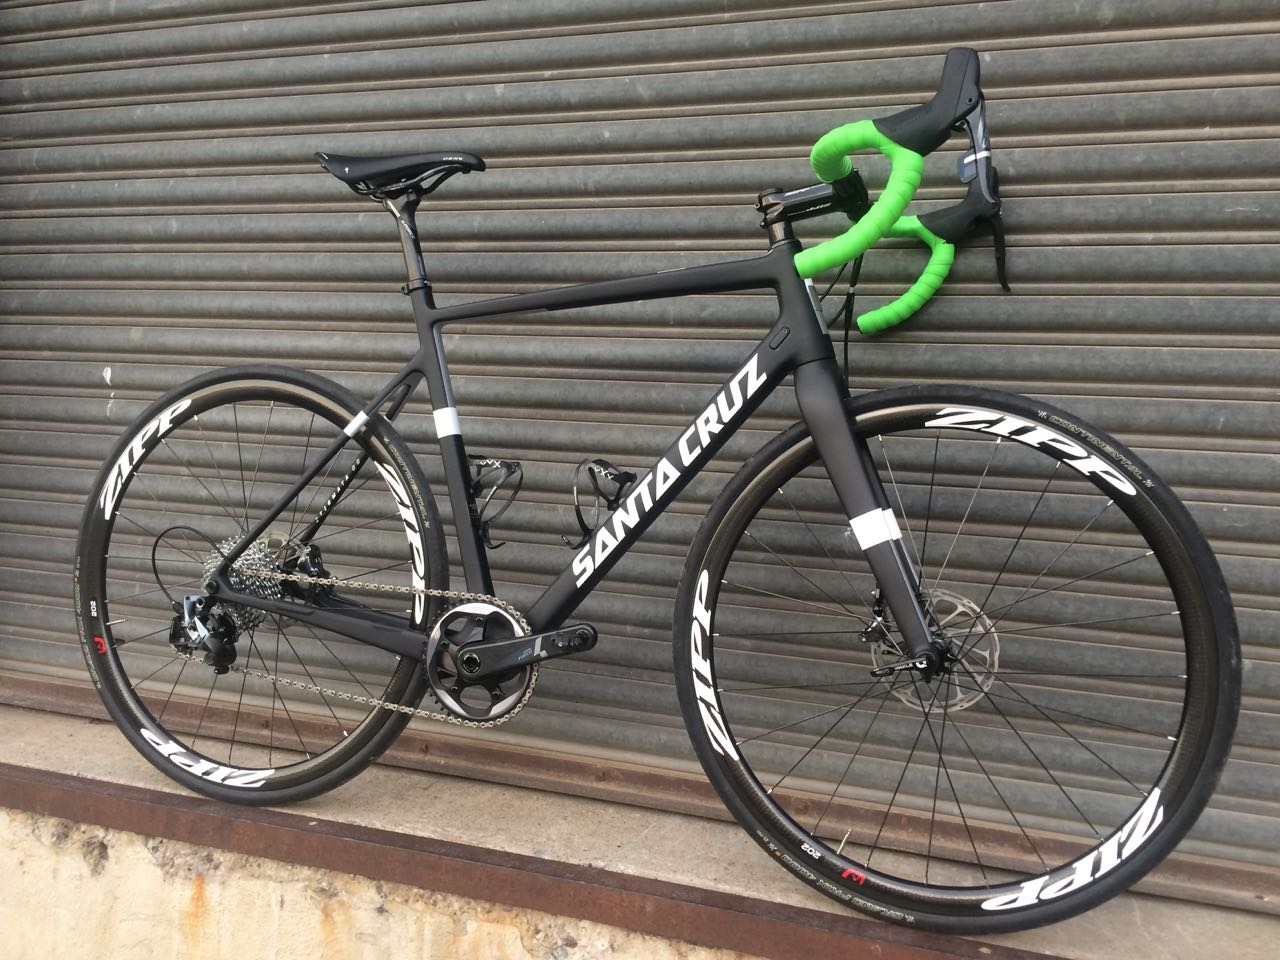bicycle: (70, 46, 1246, 937)
